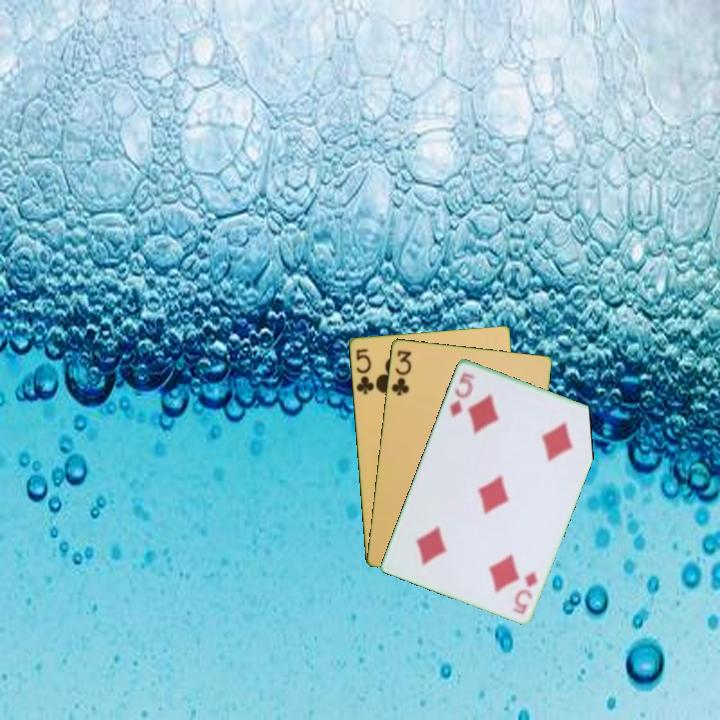3c: (388, 346, 414, 398)
5c: (352, 345, 377, 397)
5d: (446, 368, 477, 420), (509, 568, 540, 617)
